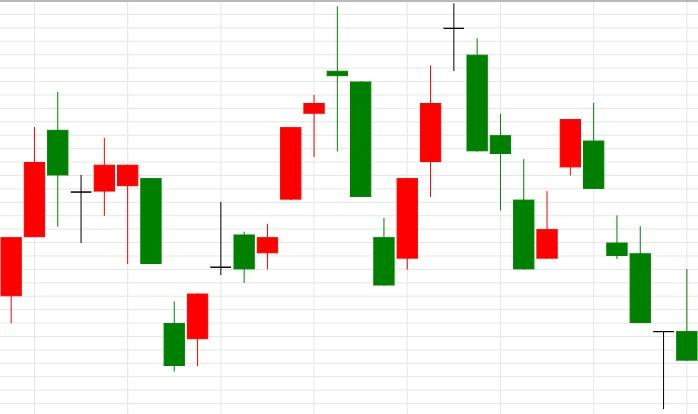evening_star_fall: (187, 7, 371, 365), (373, 3, 488, 285)
inverse_hammer_rise: (583, 102, 697, 409)
